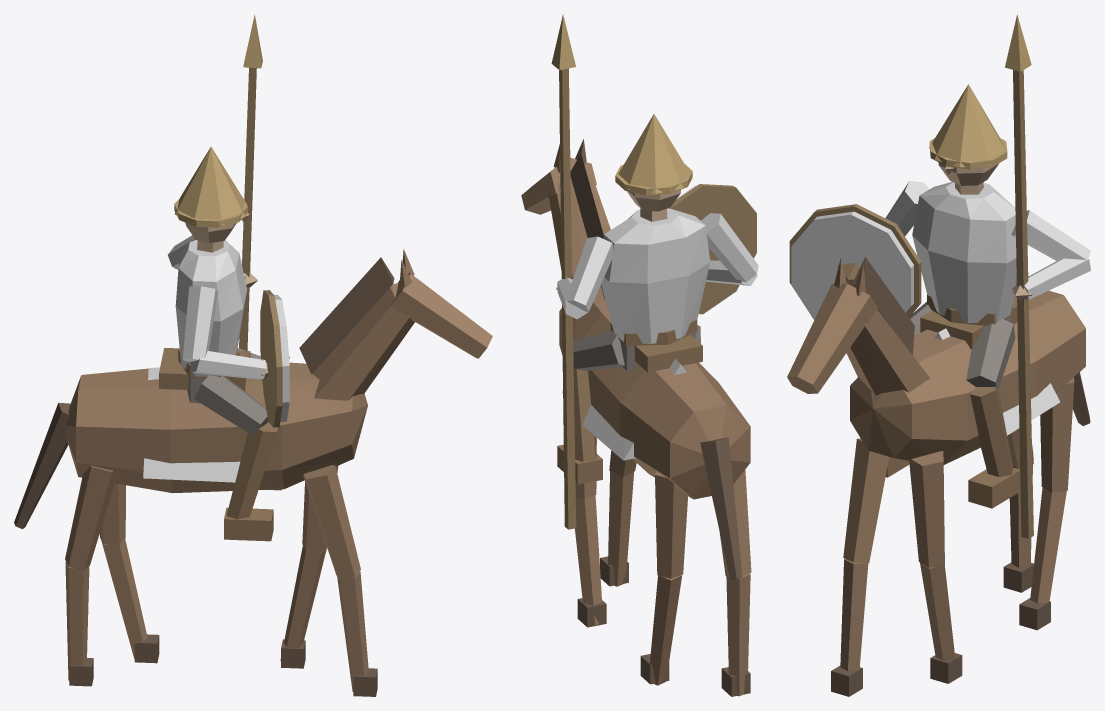
File: horseman.glb
The picture shows the model from 3 angles, left to right: view 1: azimuth 30°, elevation 25°; view 2: azimuth 150°, elevation 25°; view 3: azimuth 270°, elevation 25°; orthographic projection. The views are drawn at different scales.
Visible parts, largest first — view 1: LOD0; view 2: LOD0; view 3: LOD0.
Part boxes in pixels (box(x1,y1,x2,y2)): LOD0: box(14, 14, 492, 696); LOD0: box(521, 14, 758, 696); LOD0: box(787, 14, 1090, 696).
Size of what is drawn, in the model's own units: 0.9264 by 1.6 by 0.6671.
